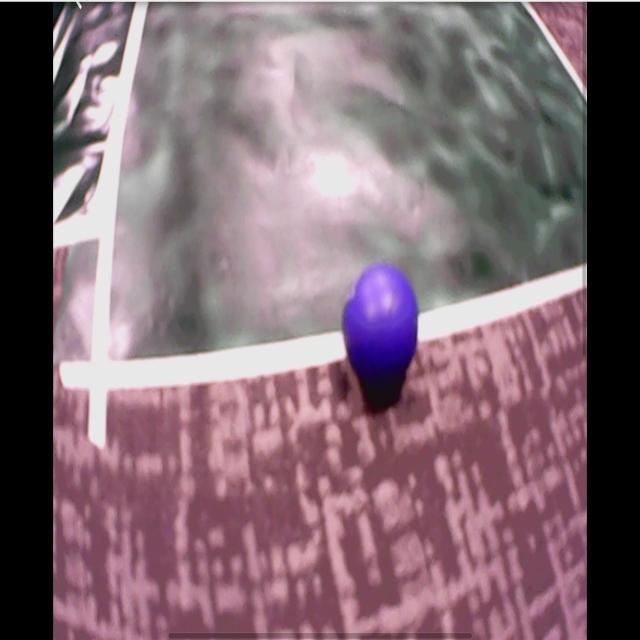ball: (343, 263, 419, 387)
